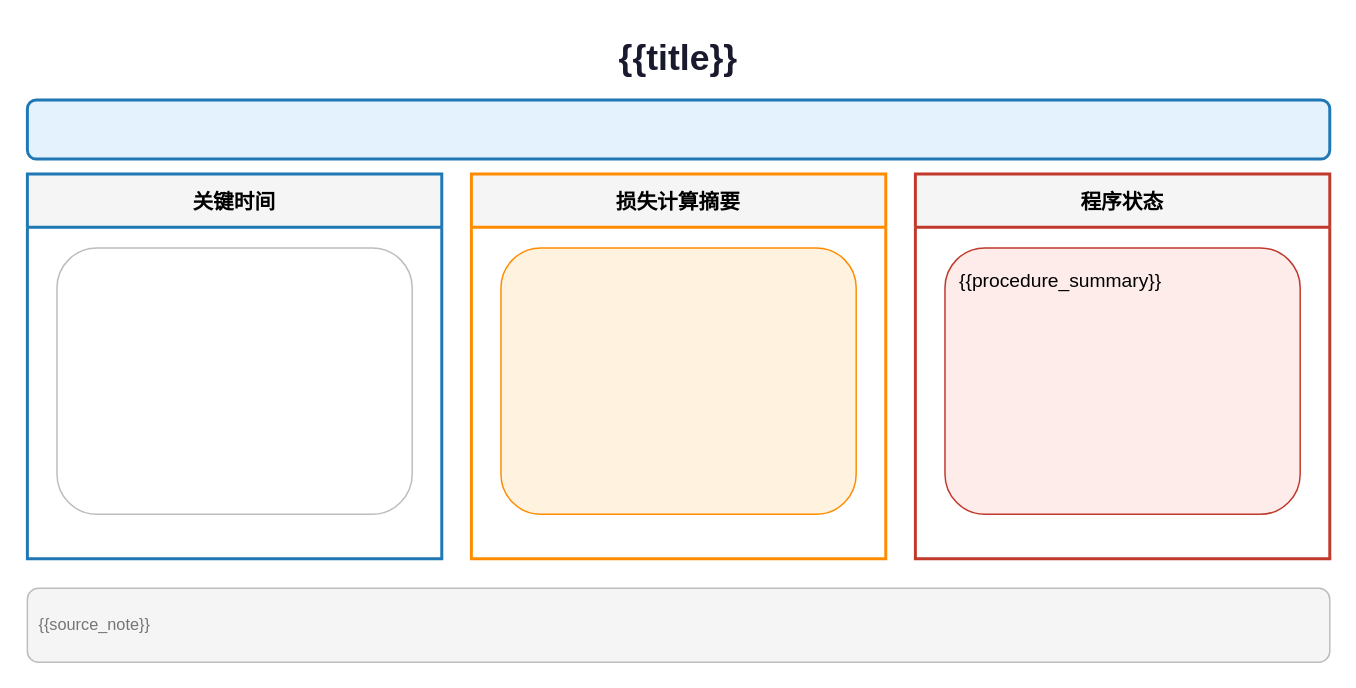
This 1356x688 diagram has some shape labels left out. The centre of each missing label's shape, as x and y in pixels:
"{{calculation_summary}}" goes at [678,380].
"{{core_message}}" goes at [678,129].
"{{timeline_summary}}" goes at [234,380].
